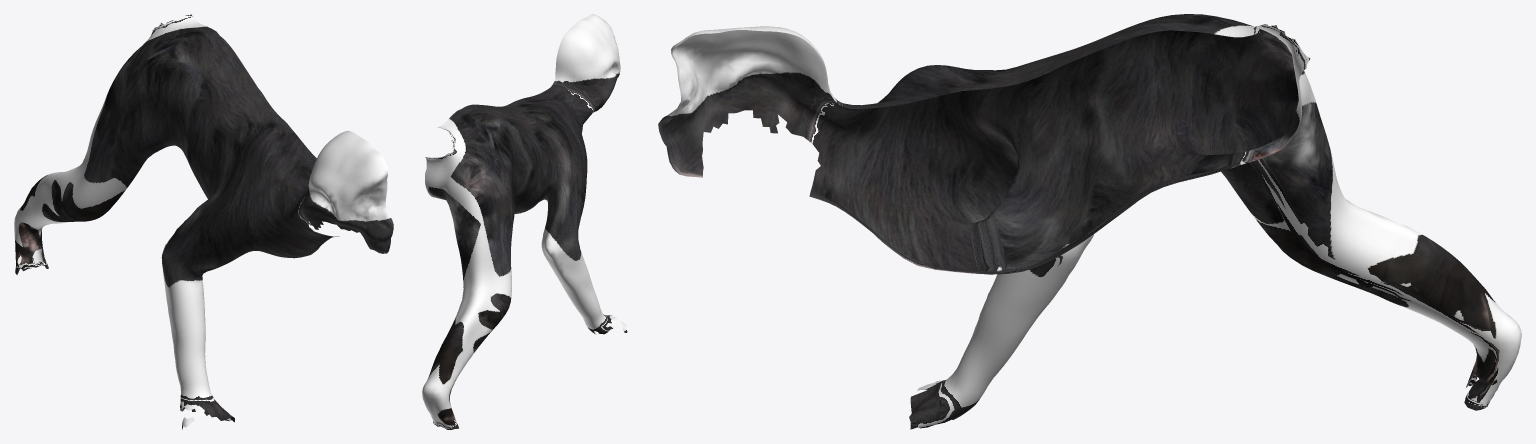
The model's file is monkey.glb.
The picture shows the model from 3 angles, left to right: view 1: azimuth 30°, elevation 25°; view 2: azimuth 150°, elevation 25°; view 3: azimuth 270°, elevation 25°; orthographic projection. The views are drawn at different scales.
Parts seen in each view (by area): view 1: m0; view 2: m0; view 3: m0.
Boxes of the visible parts, <box> form: m0: <box>14,14,393,429</box>; m0: <box>422,14,629,429</box>; m0: <box>658,14,1521,429</box>.
Bounding box in the file's own units: 0.1603 × 0.3878 × 0.668.
1 material, 1 textured.
